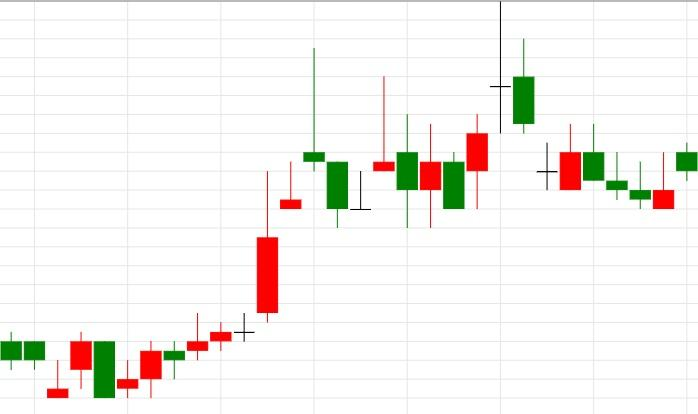evening_star_fall: (186, 48, 348, 360)
